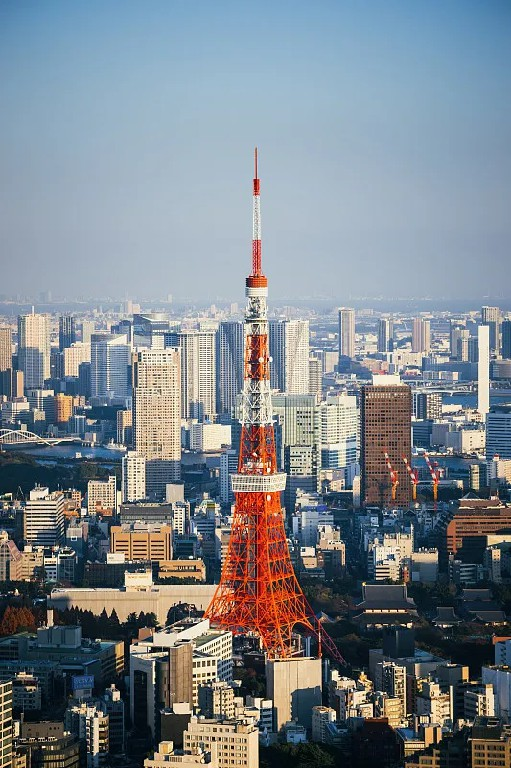Tokyo: (201, 144, 349, 676)
